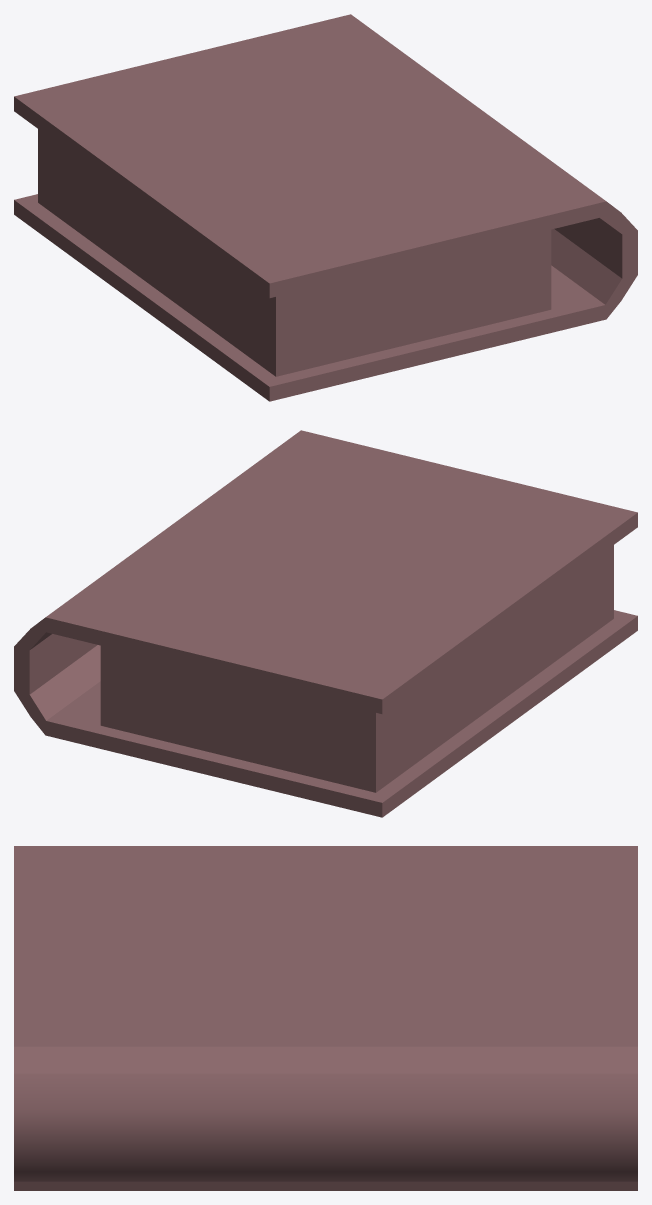
The model's file is Libro 3.fbx.
3 views of the same model, one above another, from view 1: azimuth 30°, elevation 25°; view 2: azimuth 150°, elevation 25°; view 3: azimuth 270°, elevation 25° (orthographic). The views are drawn at different scales.
Visible parts, largest first — view 1: polySurface3457; view 2: polySurface3457; view 3: polySurface3457.
Boxes of the visible parts, x1,y1,x2,y2 form: polySurface3457: (14,14,637,401); polySurface3457: (14,430,637,817); polySurface3457: (14,846,637,1190).
Size of the model in its own units: 2.44 by 0.7472 by 2.93.
